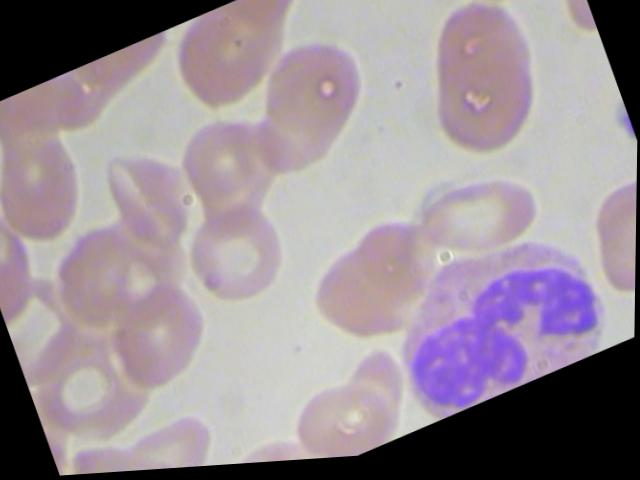Red Blood Cells: (240, 21, 392, 167), (415, 32, 567, 178), (294, 230, 431, 369), (411, 155, 557, 285), (403, 0, 554, 119), (176, 192, 304, 331), (96, 271, 223, 409), (158, 101, 287, 228), (0, 120, 106, 259), (281, 361, 410, 464), (571, 182, 636, 321), (56, 412, 197, 476)
White Blood Cells: (369, 215, 622, 437)
